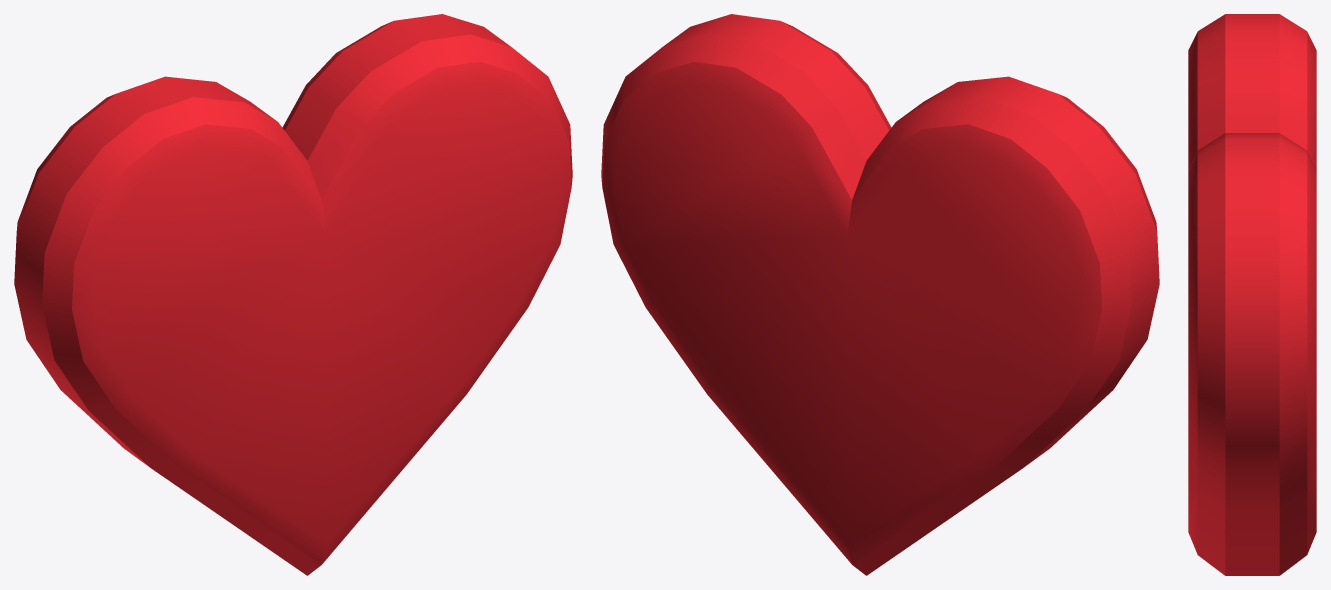
File: heart.fbx
The picture shows the model from 3 angles, left to right: view 1: azimuth 30°, elevation 25°; view 2: azimuth 150°, elevation 25°; view 3: azimuth 270°, elevation 25°; orthographic projection. The views are drawn at different scales.
Parts seen in each view (by area): view 1: heart; view 2: heart; view 3: heart.
Boxes of the visible parts, left/top/right/bottom form: heart: left=14, top=14, right=572, bottom=575; heart: left=601, top=14, right=1159, bottom=575; heart: left=1188, top=14, right=1316, bottom=575.
Bounding box in the file's own units: 56.97 × 52.01 × 12.36.
